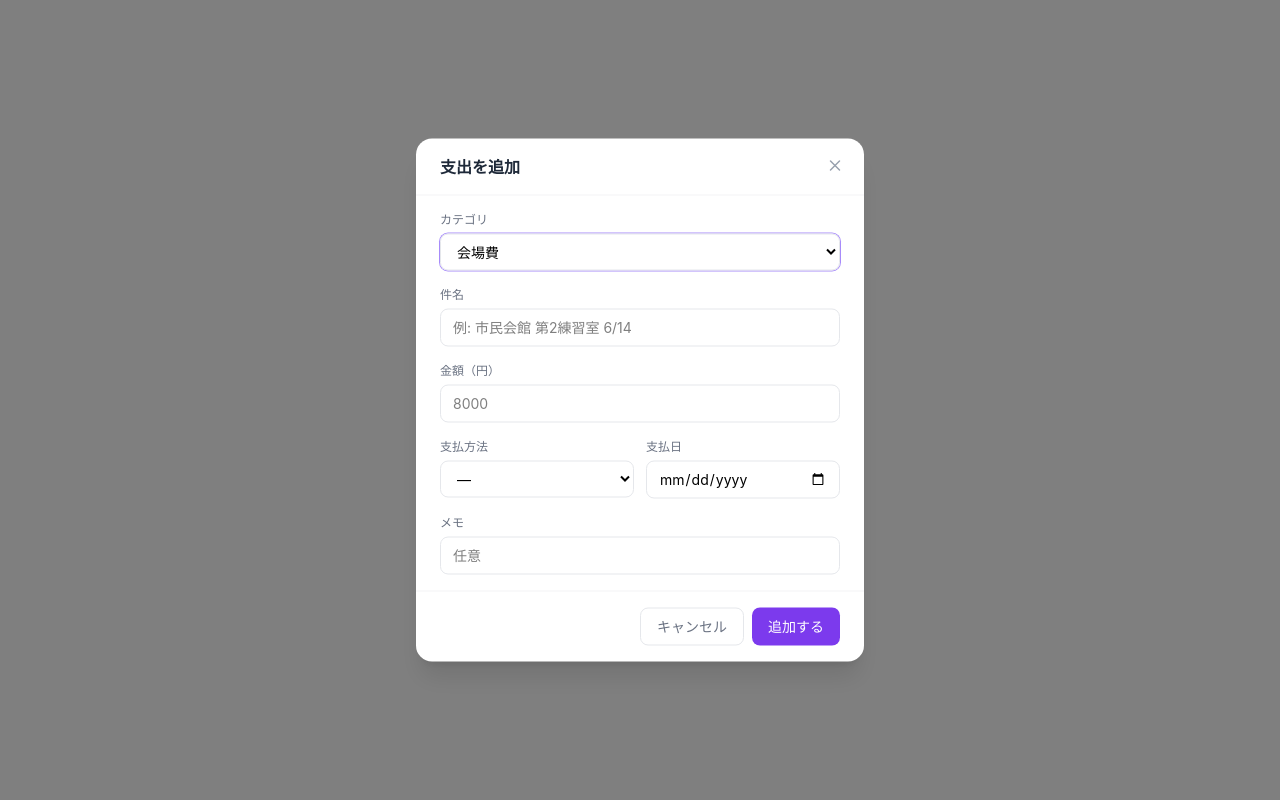
Scenario: ExpenseModal（共通モーダル） › 4xx の失敗は API の理由を出し、入力を残す
Type "テスト" into the field labelled "件名" at (640, 328), box [440,308,840,346]
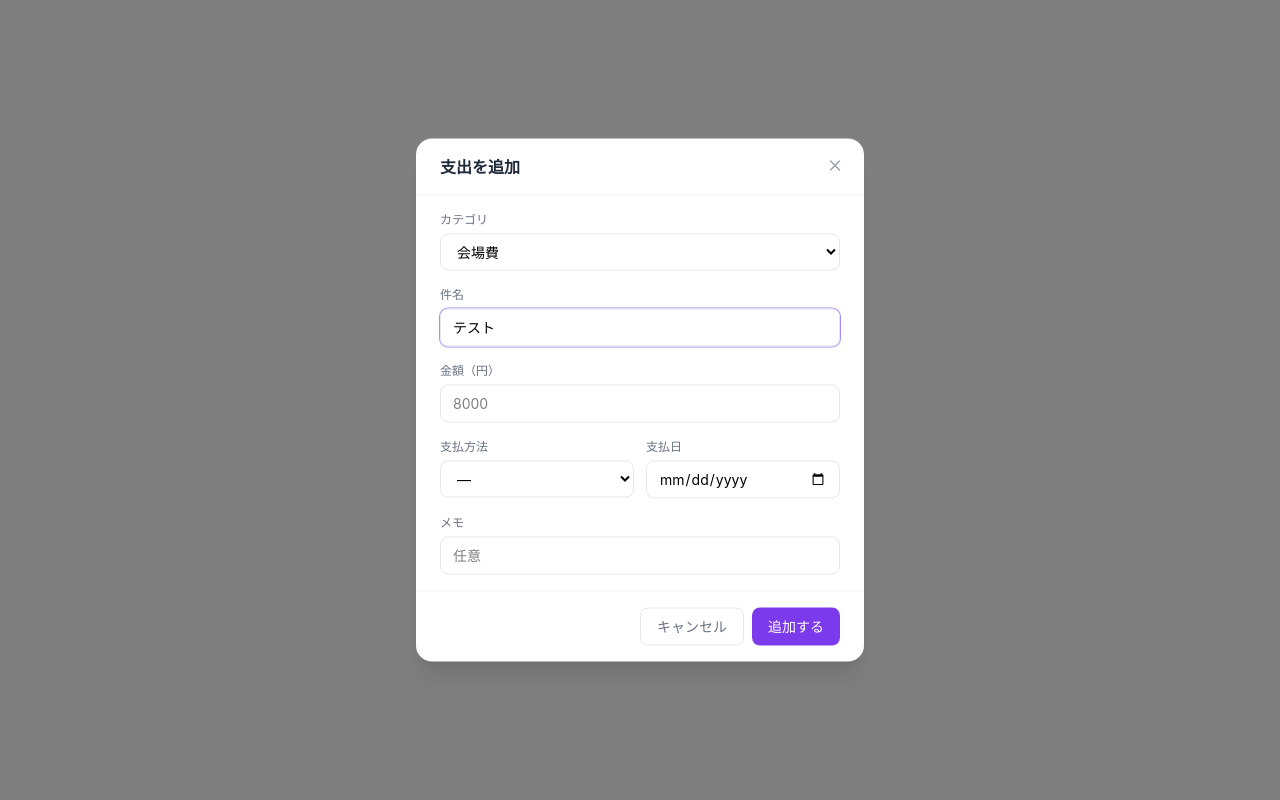
Type "500" into the number field labelled "金額（円）" at (640, 404), box [440,384,840,422]
Then press Enter
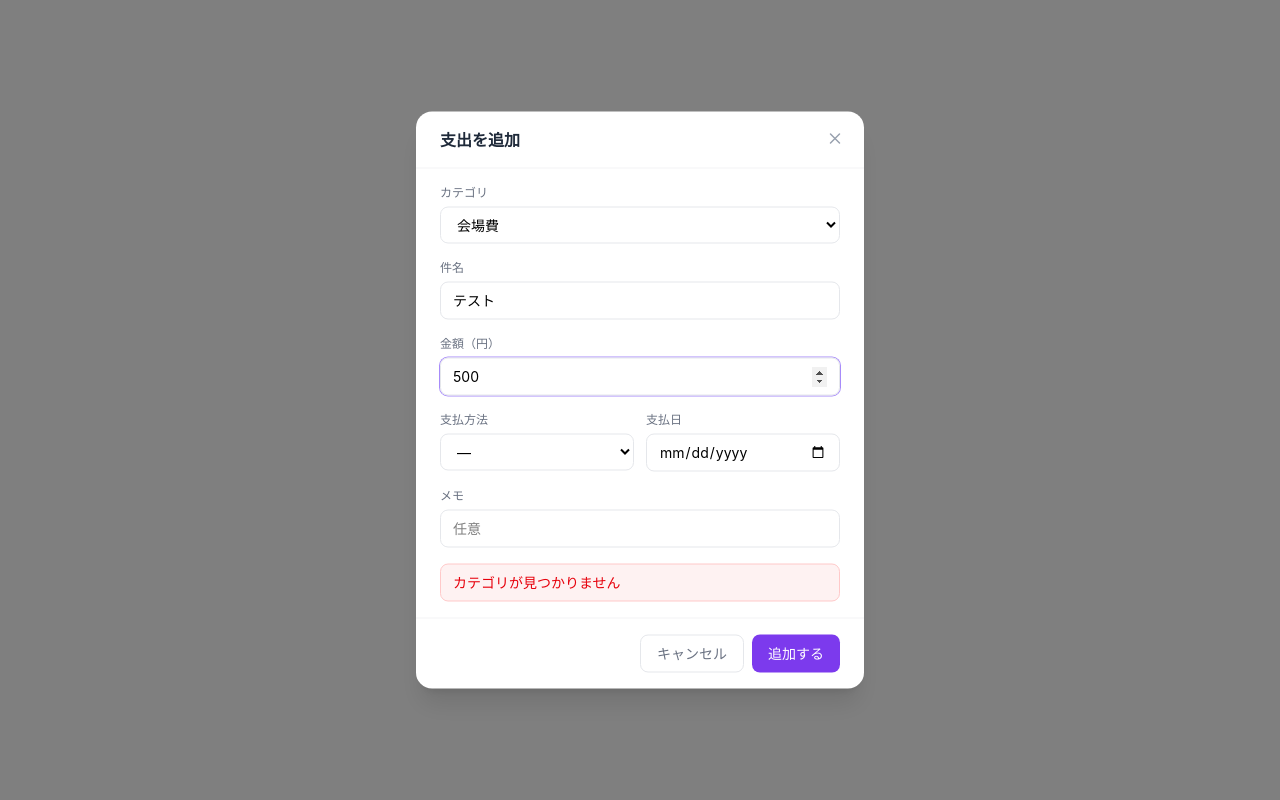
expect the message reads "カテゴリが見つかりません": met, box [453,574,621,590]
